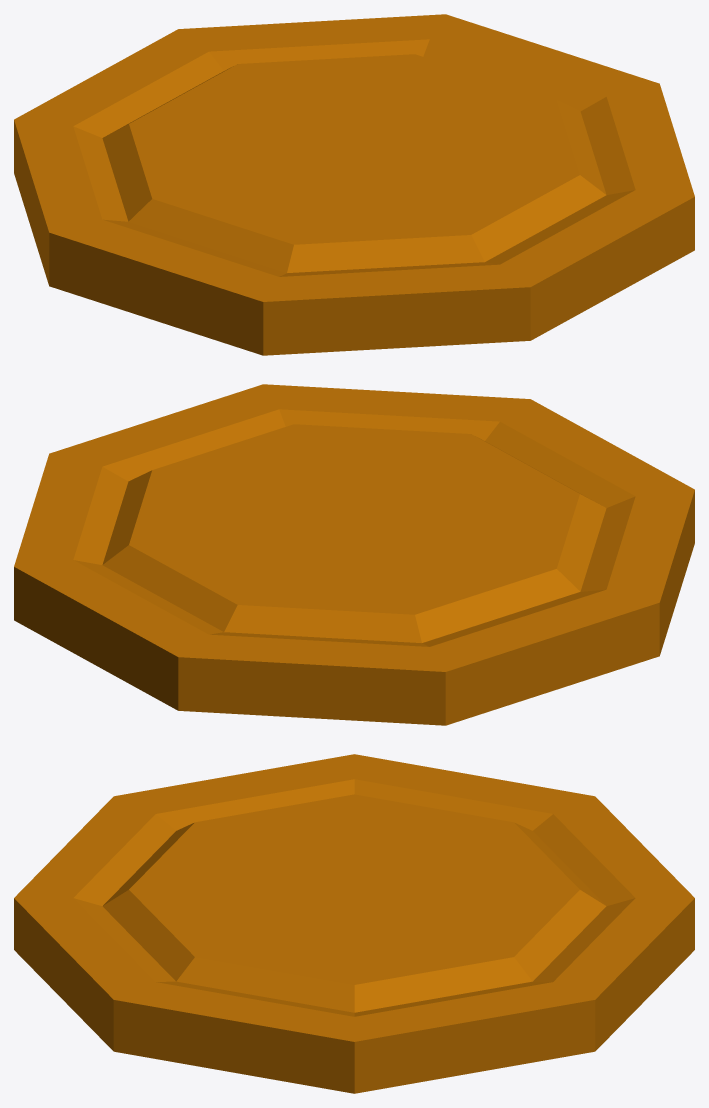
File: obj_Coin.fbx
3 renders of one model, top to bottom at view 1: azimuth 30°, elevation 25°; view 2: azimuth 150°, elevation 25°; view 3: azimuth 270°, elevation 25°, orthographic. The views are drawn at different scales.
Parts seen in each view (by area): view 1: geo_Coin; view 2: geo_Coin; view 3: geo_Coin.
Boxes of the visible parts, x1,y1,x2,y2 form: geo_Coin: (14, 14, 694, 355); geo_Coin: (14, 384, 694, 725); geo_Coin: (14, 754, 694, 1093).
Bounding box in the file's own units: 200 × 22.23 × 200.
